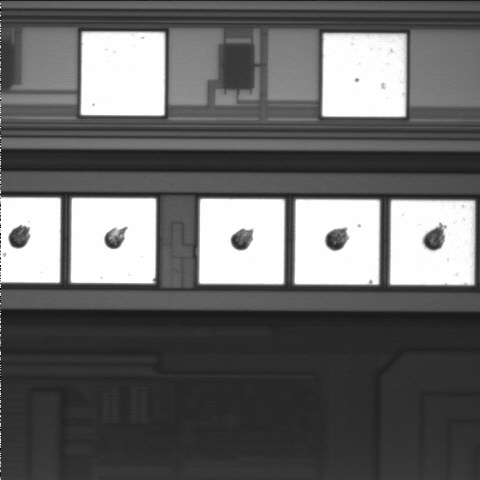pad: (295, 199, 380, 285), (71, 198, 156, 283), (199, 199, 284, 284), (390, 200, 475, 285), (81, 32, 165, 115), (322, 34, 406, 117)
